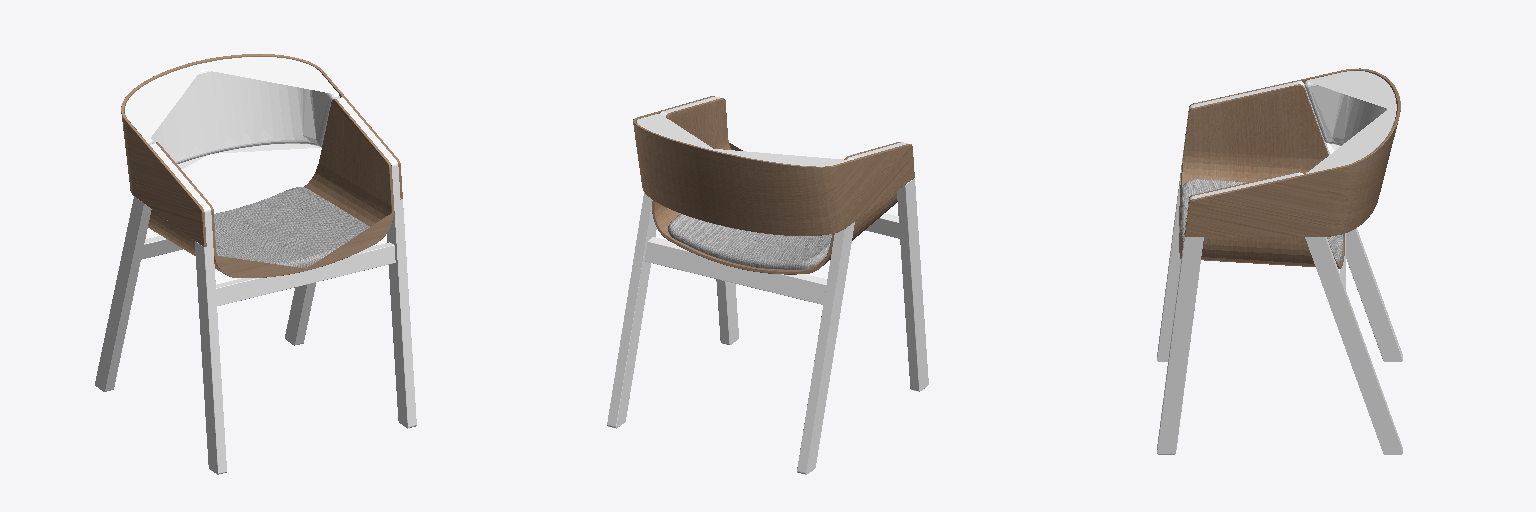
3 renders of one model, left to right at view 1: azimuth 30°, elevation 25°; view 2: azimuth 150°, elevation 25°; view 3: azimuth 270°, elevation 25°, orthographic.
Visible parts, largest first — view 1: -1_017#4-Entity251607, obj1#16-Entity251615, -1_017#4-Entity251609, obj12#4-Entity251611, obj2#10-Entity251591, obj5#10-Entity251601, obj5#10-Entity251589, obj3#11-Entity251597, obj6#12-Entity251585, obj12#4-Entity251613, obj1#16-Entity251599, obj3#11-Entity251595 (+4 smaller); view 2: obj2#10-Entity251591, obj2#10-Entity251617, obj3#11-Entity251597, obj5#10-Entity251601, obj3#11-Entity251595, obj1_2#2-Entity251593, obj1#16-Entity251615, obj12#4-Entity251613, obj12#4-Entity251611, obj1#16-Entity251599, obj5#10-Entity251589, -1_017#4-Entity251607 (+2 smaller); view 3: obj2#10-Entity251617, obj1#16-Entity251599, obj3#11-Entity251595, -1_017#4-Entity251609, obj5#10-Entity251589, obj1#16-Entity251615, obj3#11-Entity251597, -1_017#4-Entity251607, obj5#10-Entity251601, obj12#4-Entity251613.
Part boxes in pixels (left/top/right/bottom): -1_017#4-Entity251607: left=198, top=57, right=339, bottom=153; obj1#16-Entity251615: left=304, top=99, right=393, bottom=270; -1_017#4-Entity251609: left=125, top=64, right=211, bottom=169; obj12#4-Entity251611: left=226, top=187, right=369, bottom=266; obj2#10-Entity251591: left=121, top=62, right=206, bottom=246; obj5#10-Entity251601: left=195, top=212, right=226, bottom=474; obj5#10-Entity251589: left=387, top=166, right=416, bottom=428; obj3#11-Entity251597: left=95, top=196, right=151, bottom=391; obj6#12-Entity251585: left=216, top=242, right=395, bottom=305; obj12#4-Entity251613: left=214, top=211, right=305, bottom=267; obj1#16-Entity251599: left=148, top=142, right=306, bottom=277; obj3#11-Entity251595: left=285, top=282, right=315, bottom=345; obj2#10-Entity251591: left=708, top=144, right=914, bottom=235; obj2#10-Entity251617: left=633, top=96, right=717, bottom=224; obj3#11-Entity251597: left=797, top=222, right=854, bottom=474; obj5#10-Entity251601: left=897, top=178, right=928, bottom=391; obj3#11-Entity251595: left=607, top=192, right=656, bottom=428; obj1_2#2-Entity251593: left=645, top=237, right=826, bottom=304; obj1#16-Entity251615: left=652, top=98, right=742, bottom=267; obj12#4-Entity251613: left=736, top=233, right=831, bottom=269; obj12#4-Entity251611: left=668, top=214, right=762, bottom=262; obj1#16-Entity251599: left=735, top=142, right=900, bottom=274; obj5#10-Entity251589: left=716, top=279, right=738, bottom=344; -1_017#4-Entity251607: left=637, top=114, right=712, bottom=149; obj2#10-Entity251617: left=1185, top=106, right=1400, bottom=236; obj1#16-Entity251599: left=1179, top=84, right=1344, bottom=241; obj3#11-Entity251595: left=1305, top=237, right=1402, bottom=454; -1_017#4-Entity251609: left=1305, top=71, right=1396, bottom=150; obj5#10-Entity251589: left=1157, top=204, right=1203, bottom=454; obj1#16-Entity251615: left=1179, top=171, right=1344, bottom=268; obj3#11-Entity251597: left=1304, top=84, right=1402, bottom=361; -1_017#4-Entity251607: left=1305, top=107, right=1396, bottom=173; obj5#10-Entity251601: left=1157, top=112, right=1188, bottom=361; obj12#4-Entity251613: left=1180, top=179, right=1343, bottom=236.
Bounding box in the file's own units: 540 × 780 × 579.
Materials: 3 (2 with a texture image).